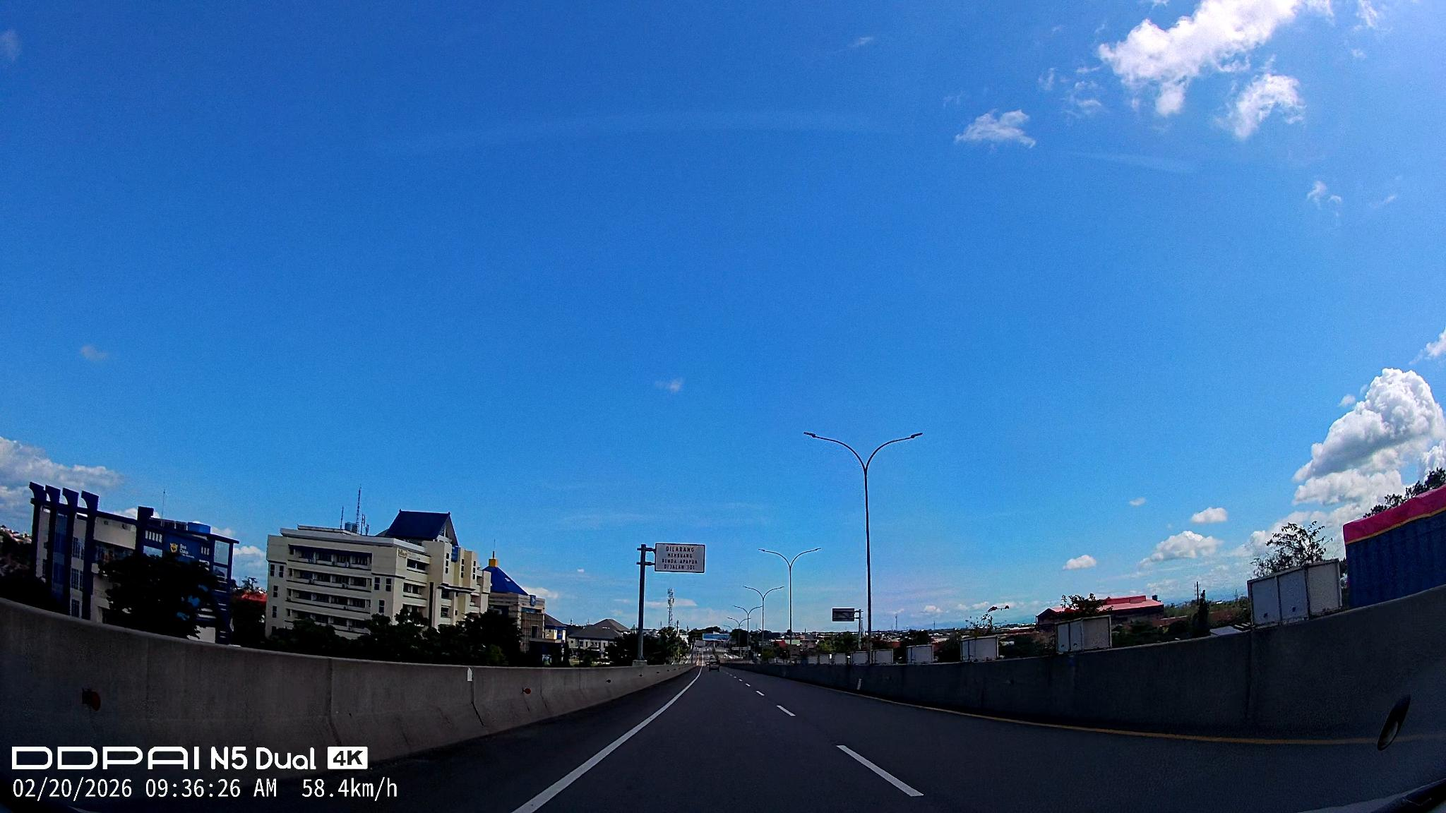rambu_teks: (654, 543, 706, 573)
